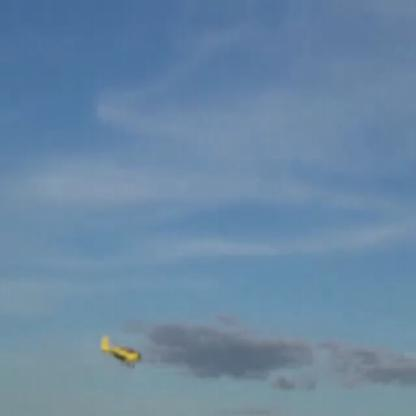CIV_Plane: (90, 320, 146, 386)
